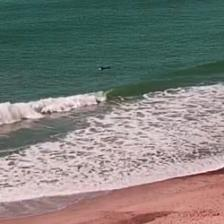surfer: (100, 66, 110, 70)
